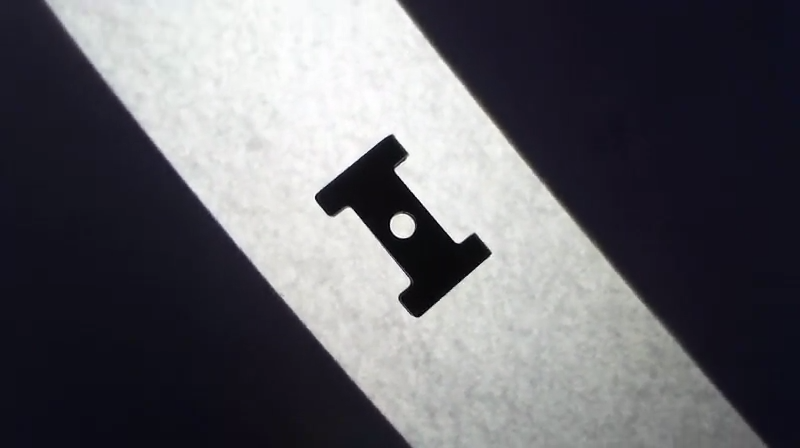O002: (308, 130, 494, 321)
